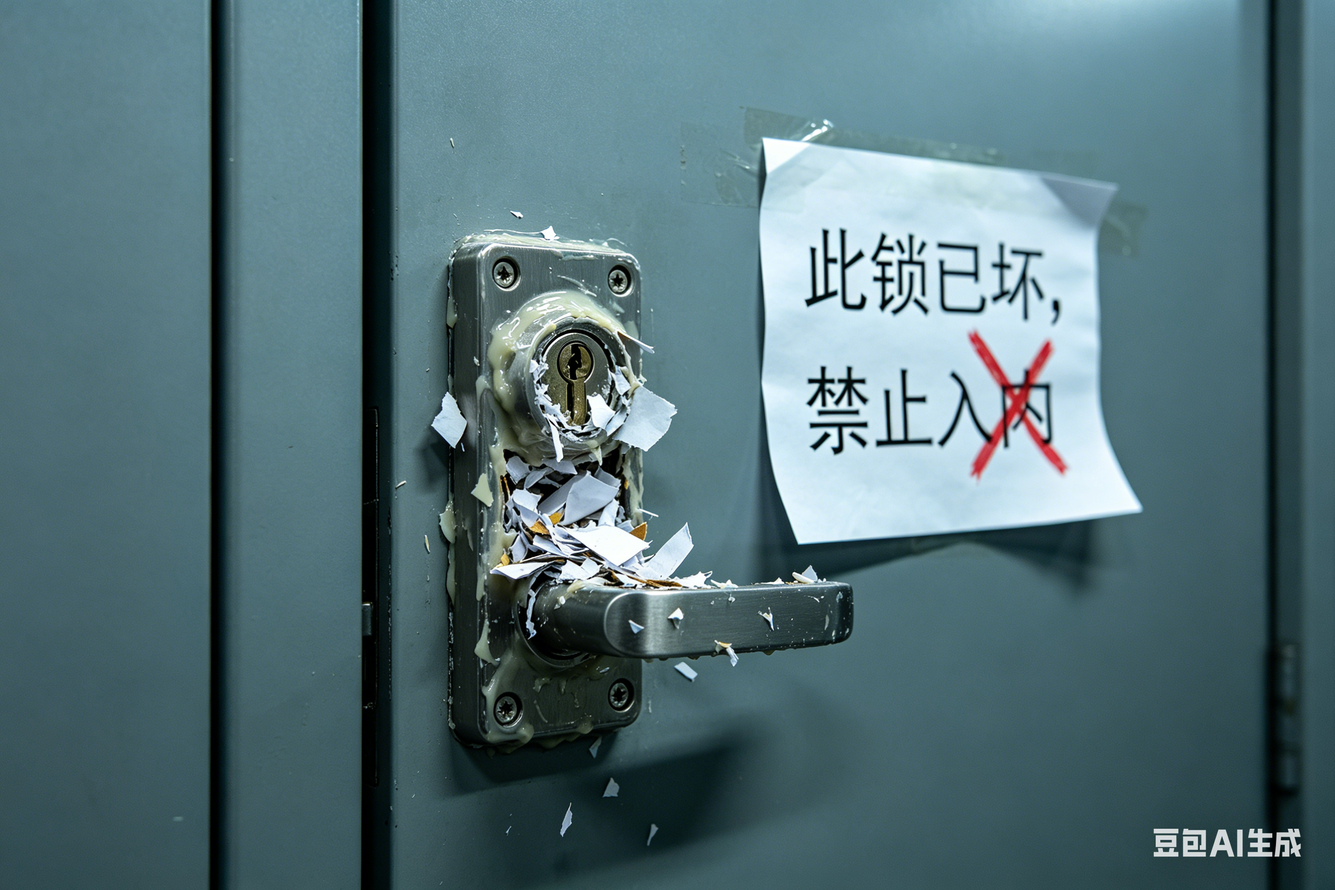BadLock: (467, 246, 641, 495)
